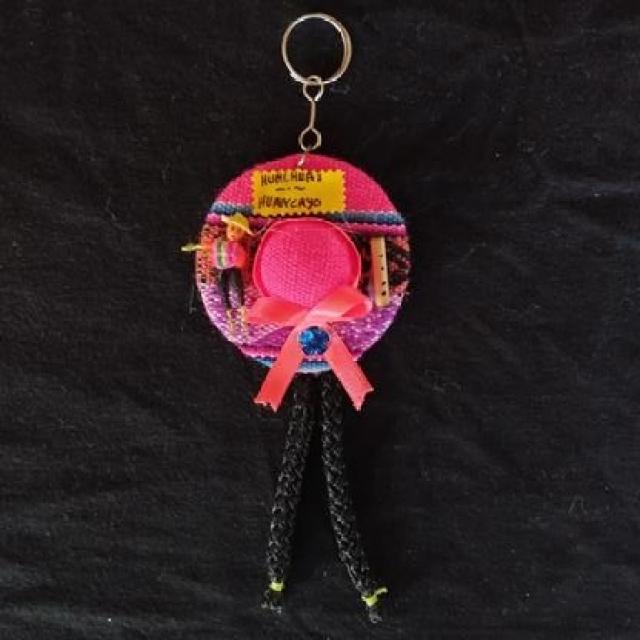Llavero: (190, 151, 412, 411)
